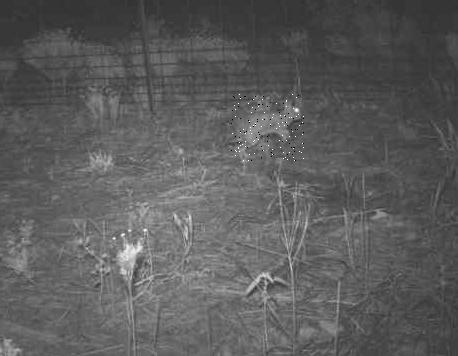Rabbit: (230, 94, 303, 161)
